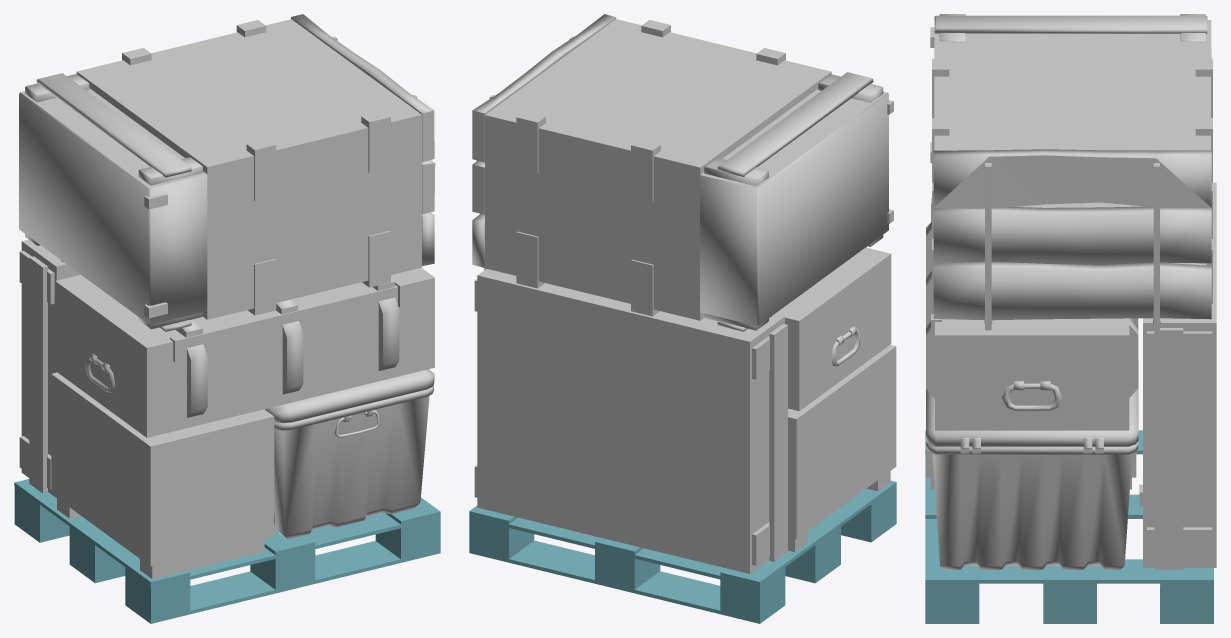
The model's file is boxpallet.dae.
The picture shows the model from 3 angles, left to right: view 1: azimuth 30°, elevation 25°; view 2: azimuth 150°, elevation 25°; view 3: azimuth 270°, elevation 25°; orthographic projection. The views are drawn at different scales.
Visible parts, largest first — view 1: studio_crateshell_ref_mesh_02_005; view 2: studio_crateshell_ref_mesh_02_005; view 3: studio_crateshell_ref_mesh_02_005.
Boxes of the visible parts, x1=… form: studio_crateshell_ref_mesh_02_005: x1=14, y1=14, x2=440, y2=623; studio_crateshell_ref_mesh_02_005: x1=469, y1=14, x2=896, y2=623; studio_crateshell_ref_mesh_02_005: x1=925, y1=14, x2=1216, y2=623.
Size of the model in its own units: 0.929 by 0.7465 by 1.33.
